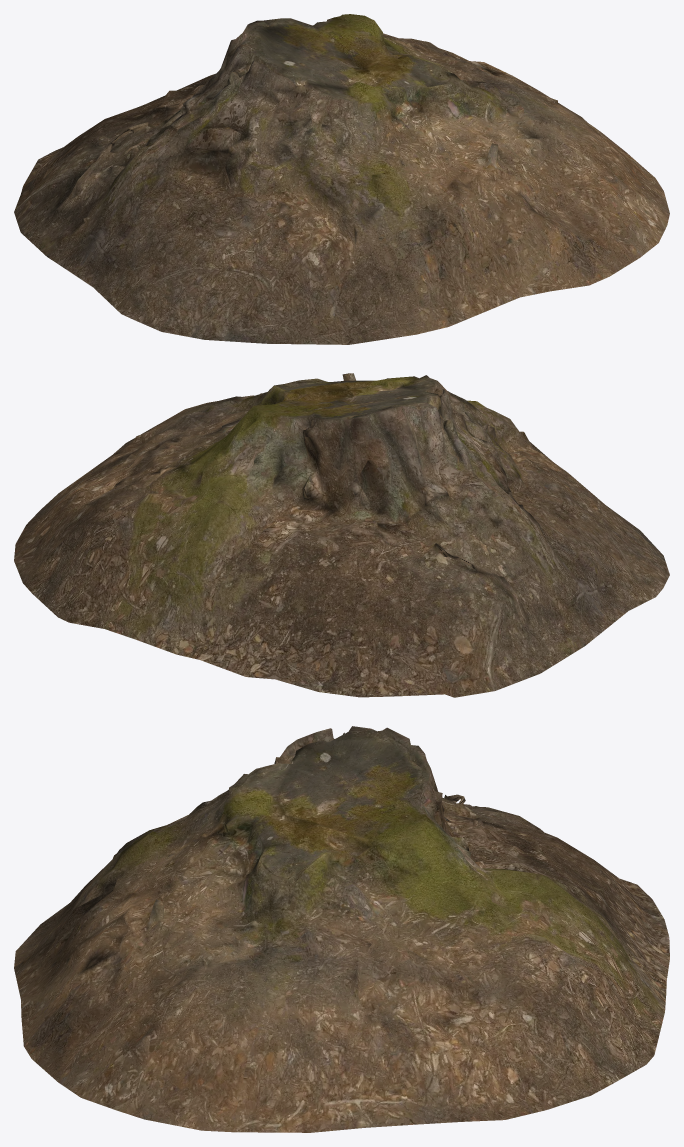
File: stump_mossy_b.glb
3 renders of one model, top to bottom at view 1: azimuth 30°, elevation 25°; view 2: azimuth 150°, elevation 25°; view 3: azimuth 270°, elevation 25°, orthographic. The views are drawn at different scales.
Parts seen in each view (by area): view 1: tree_stump_02; view 2: tree_stump_02; view 3: tree_stump_02.
Part boxes in pixels (box(x1,y1,x2,y2)): tree_stump_02: box(14, 14, 669, 344); tree_stump_02: box(14, 373, 669, 697); tree_stump_02: box(14, 726, 669, 1132).
Bounding box in the file's own units: 1.52 × 0.5184 × 1.39.
Materials: 1 (1 with a texture image).
